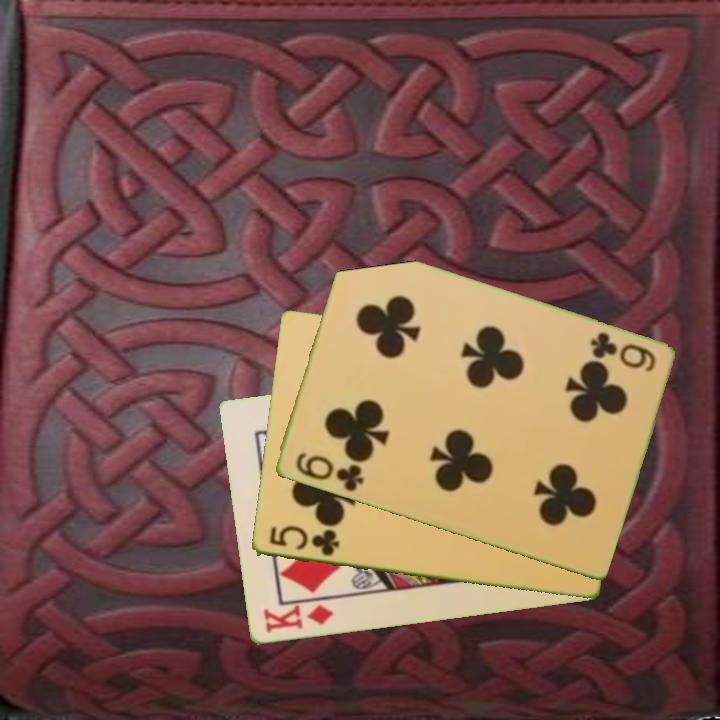5c: (265, 522, 342, 560)
6c: (291, 449, 367, 495), (586, 329, 658, 375)
Kd: (259, 601, 336, 637)
